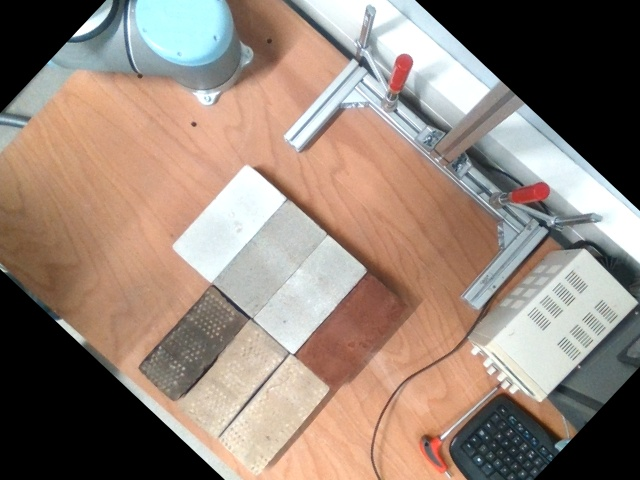brick: (219, 356, 328, 472), (215, 202, 324, 316), (256, 238, 364, 352), (140, 289, 246, 399), (301, 277, 405, 387), (180, 324, 283, 434), (176, 169, 279, 277)
